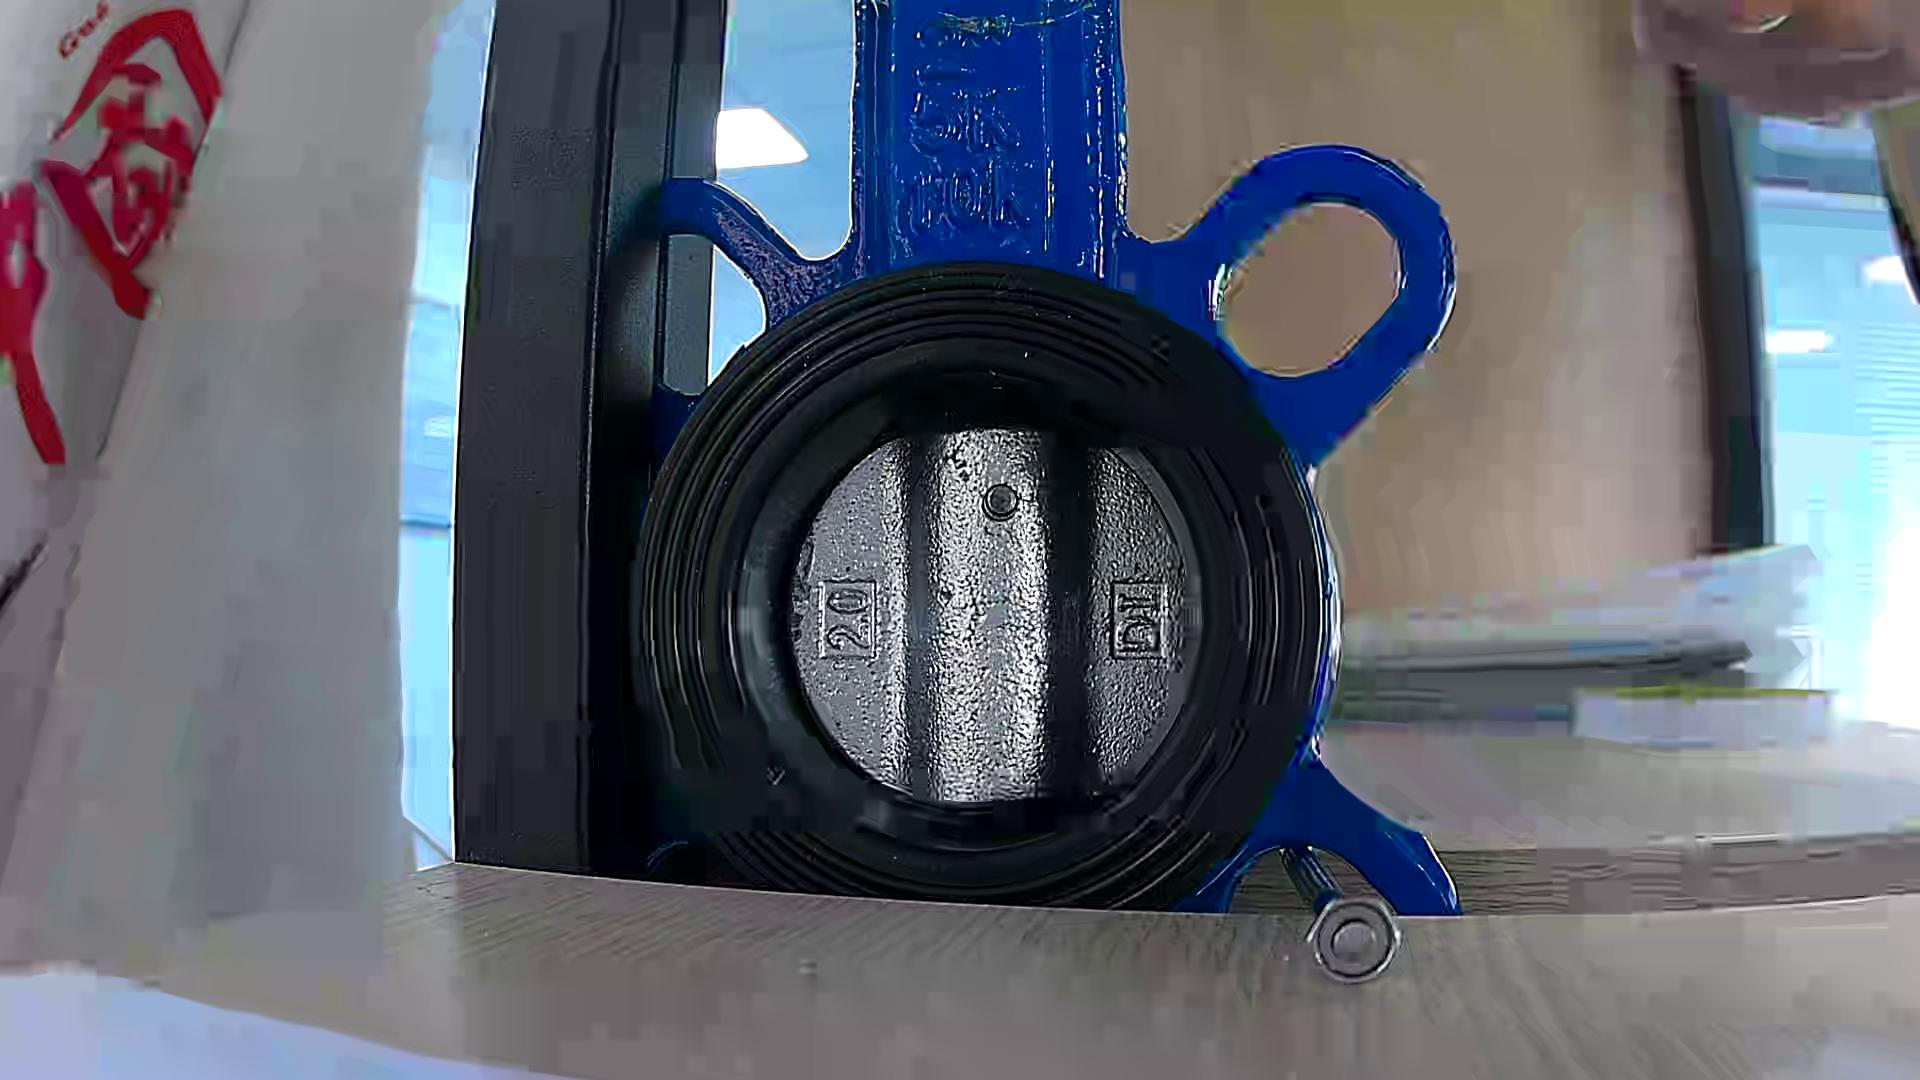valve: (791, 427, 1196, 806)
